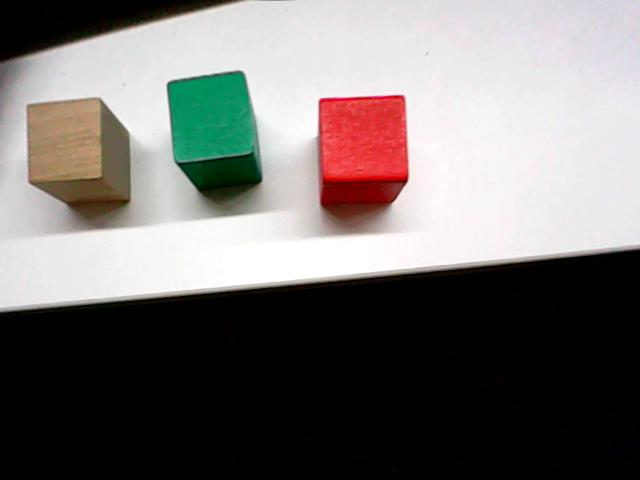green_box: (163, 66, 265, 195)
raw_box: (17, 93, 144, 214)
red_box: (313, 90, 412, 209)
